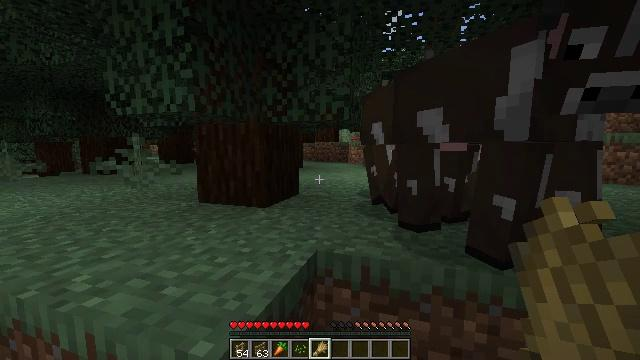cow: (360, 4, 639, 261)
